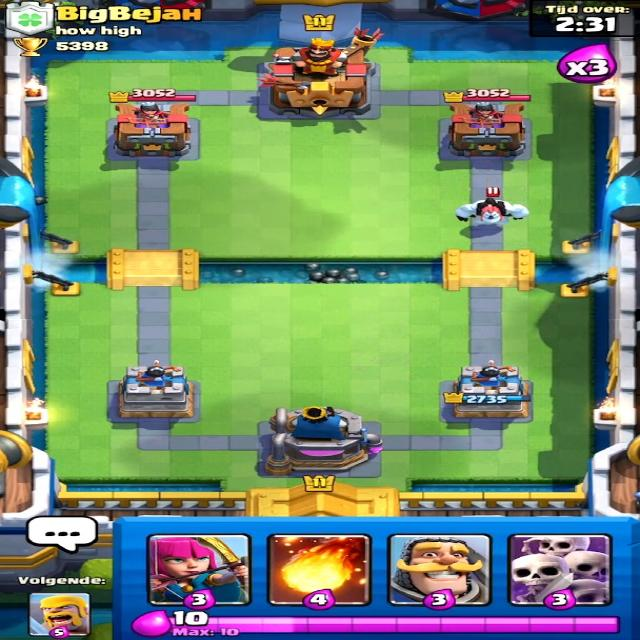Enemy_Ice_Golem_Troop: (450, 196, 534, 230)
Fireball_Card: (265, 533, 372, 607)
